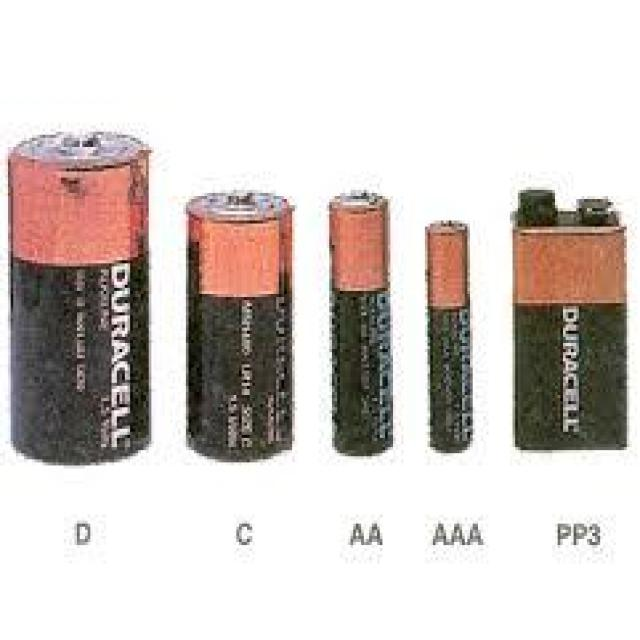9V: (507, 182, 632, 458)
AA: (324, 181, 398, 468)
AAA: (420, 208, 480, 460)
